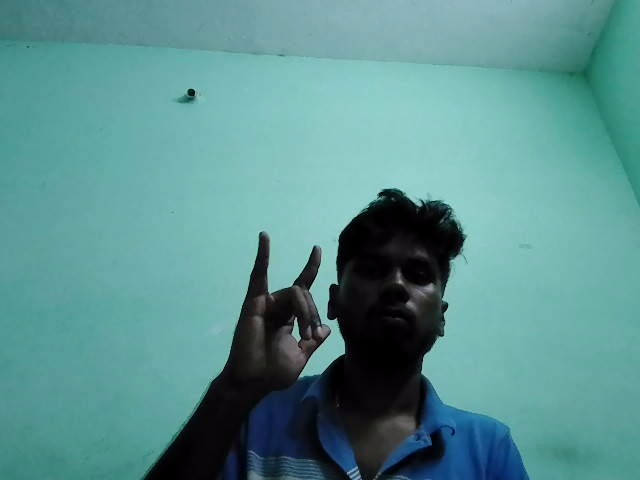I Love You: (227, 214, 351, 412)
